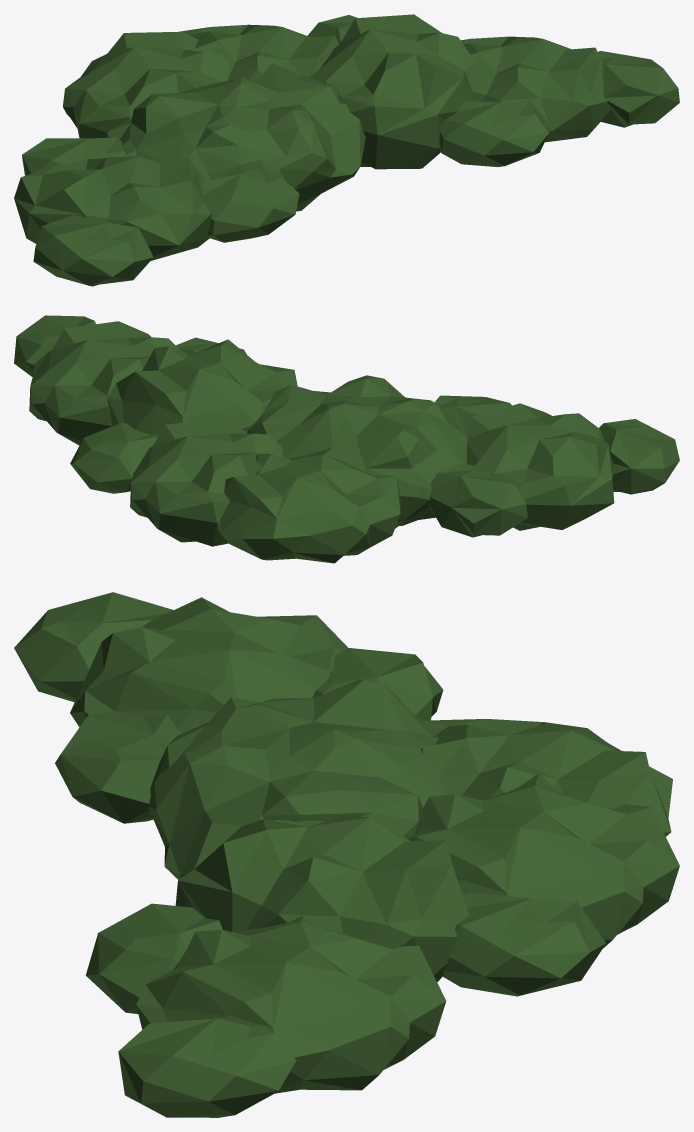
Rendered from SM_Env_Tree_Canopy_02.glb.
The picture shows the model from 3 angles, top to bottom: view 1: azimuth 30°, elevation 25°; view 2: azimuth 150°, elevation 25°; view 3: azimuth 270°, elevation 25°; orthographic projection. The views are drawn at different scales.
Visible parts, largest first — view 1: SM_Env_Tree_Canopy_02; view 2: SM_Env_Tree_Canopy_02; view 3: SM_Env_Tree_Canopy_02.
Part boxes in pixels (box(x1,y1,x2,y2)): SM_Env_Tree_Canopy_02: box(14, 14, 679, 286); SM_Env_Tree_Canopy_02: box(14, 315, 679, 563); SM_Env_Tree_Canopy_02: box(14, 592, 679, 1117).
Bounding box in the file's own units: 0.2564 × 0.0493 × 0.1489.
